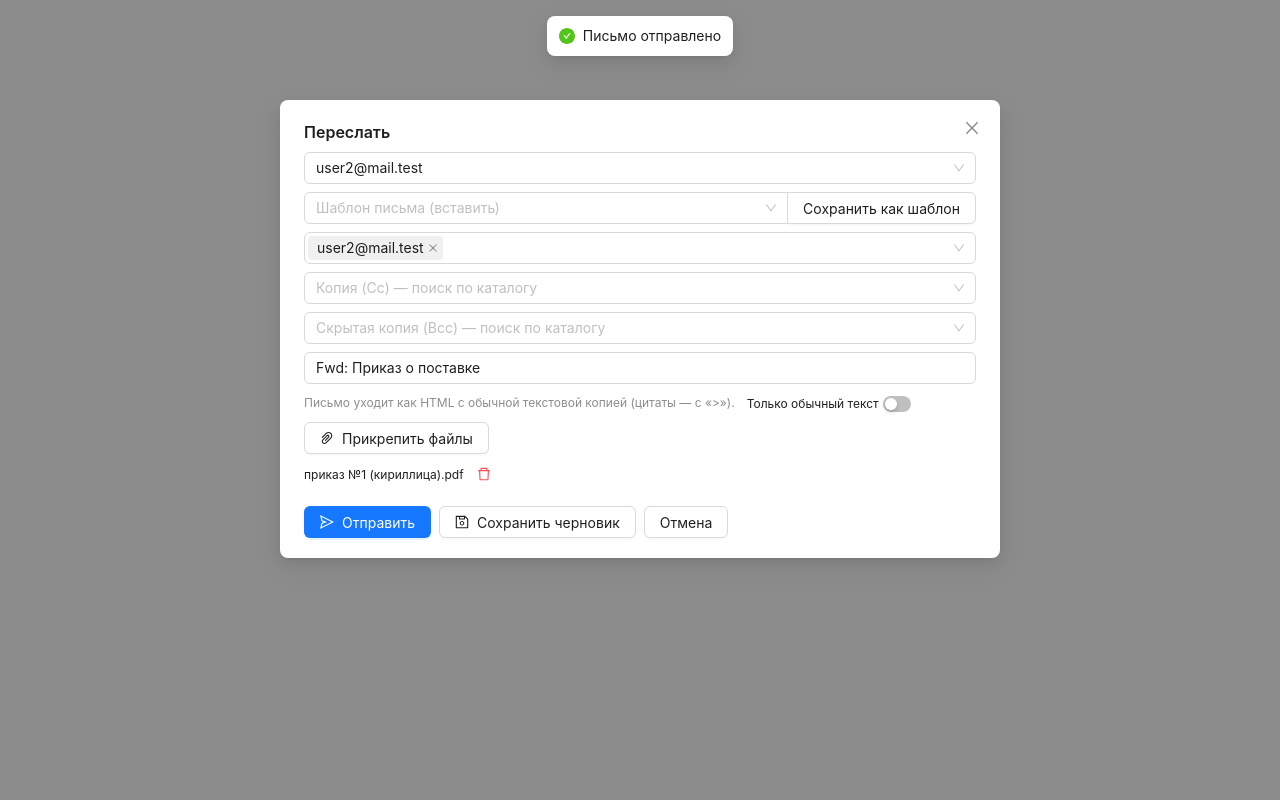
Test: Composer: вложение пересылки не теряется › если файл не удалось достать — письмо НЕ отправляется без вложения
The width and height of the screenshot is (1280, 800).
Expected: the text "приказ №1 (кириллица).pdf" is shown, left=304, top=467, right=464, bottom=482
Click the button "Отправить".
click(368, 522)  # box left=304, top=506, right=431, bottom=538
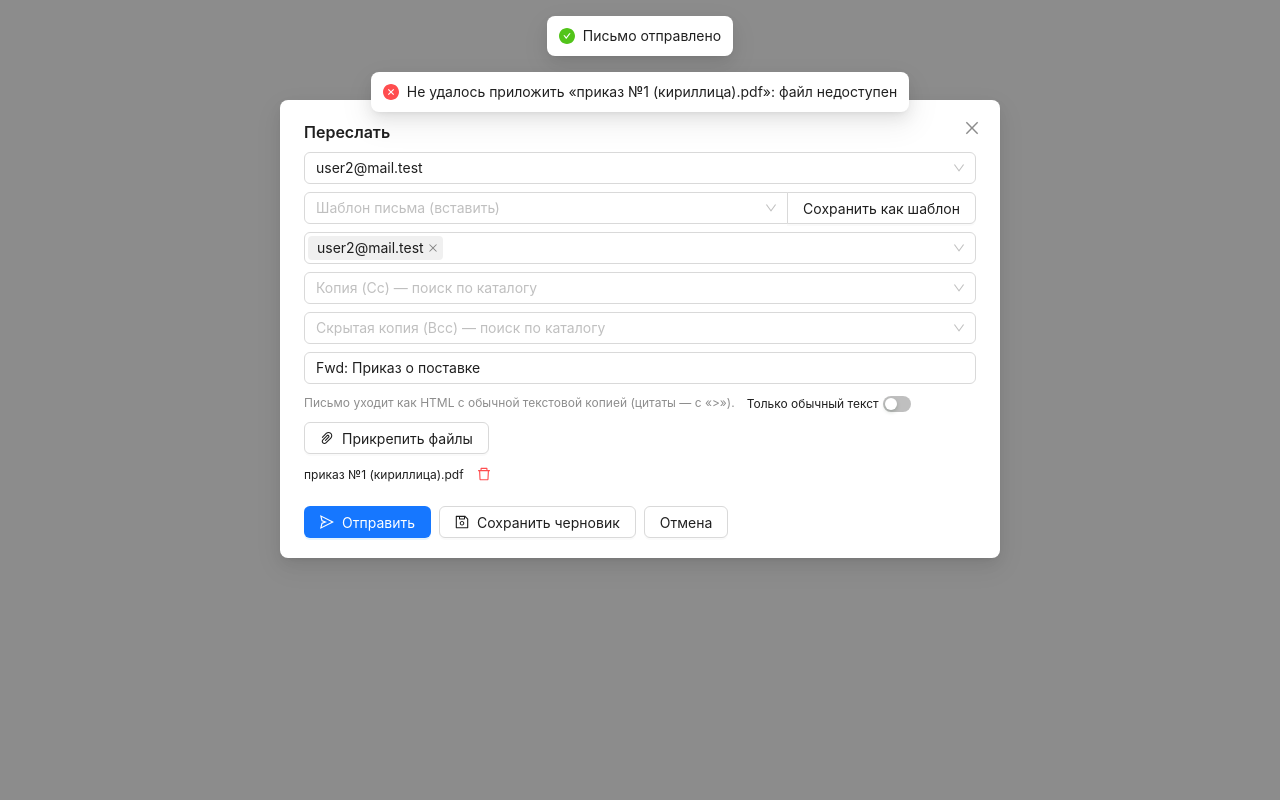
Now the text "Не удалось приложить" is shown, box left=407, top=83, right=897, bottom=100
